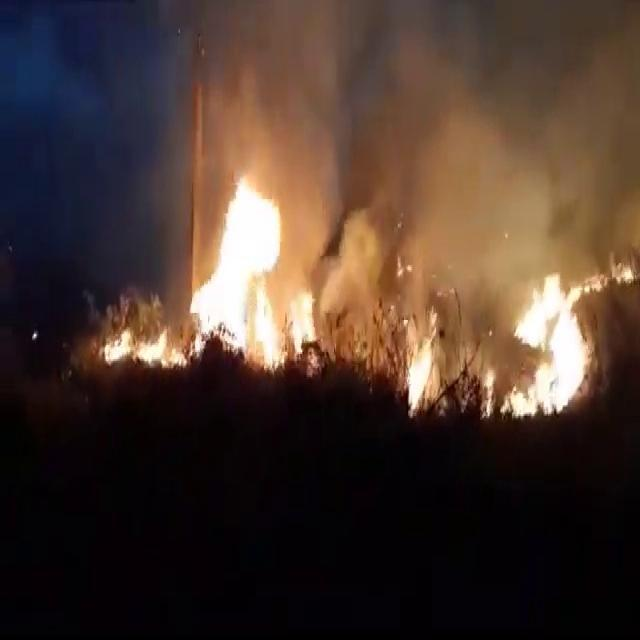Fire: (194, 180, 314, 362), (499, 274, 603, 418), (105, 324, 188, 366), (406, 338, 442, 410)
Smoke: (209, 18, 632, 338)
